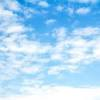sky: (1, 1, 100, 99)
